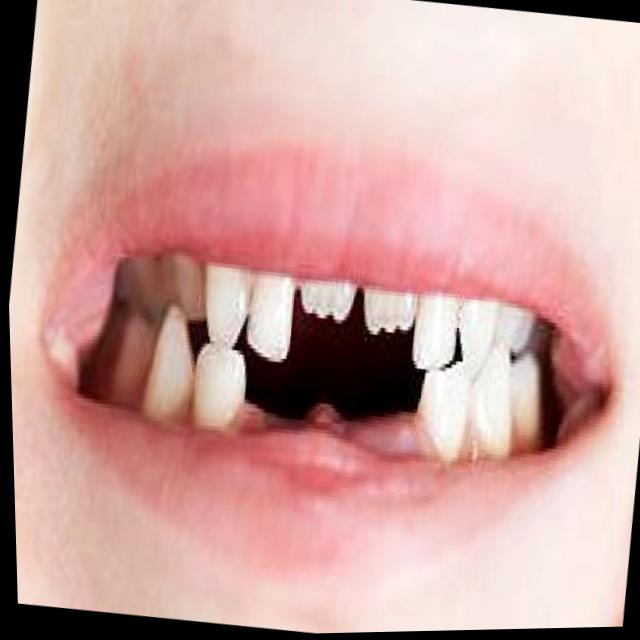hypodontia: (226, 358, 434, 442)
